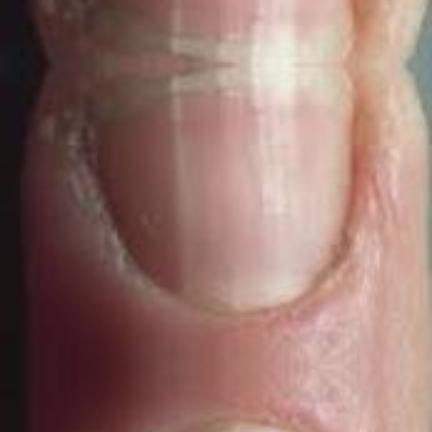Nail: (91, 64, 357, 314), (91, 0, 357, 64), (183, 418, 301, 432)
